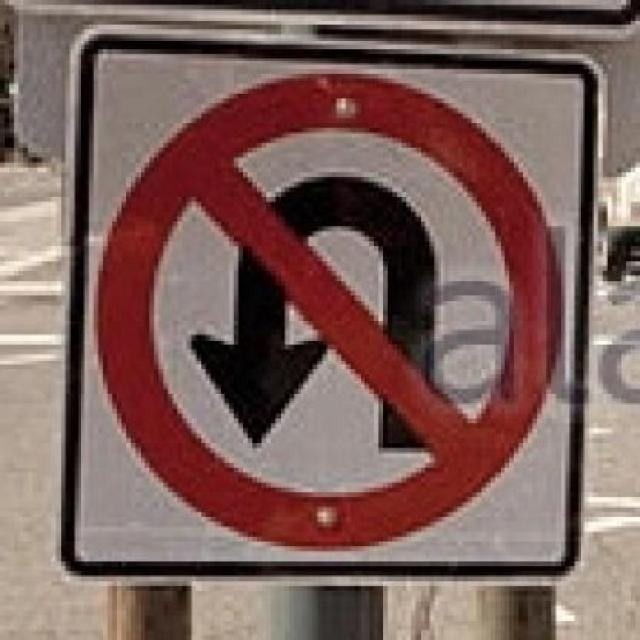u turn prohibited: (99, 68, 566, 555)
